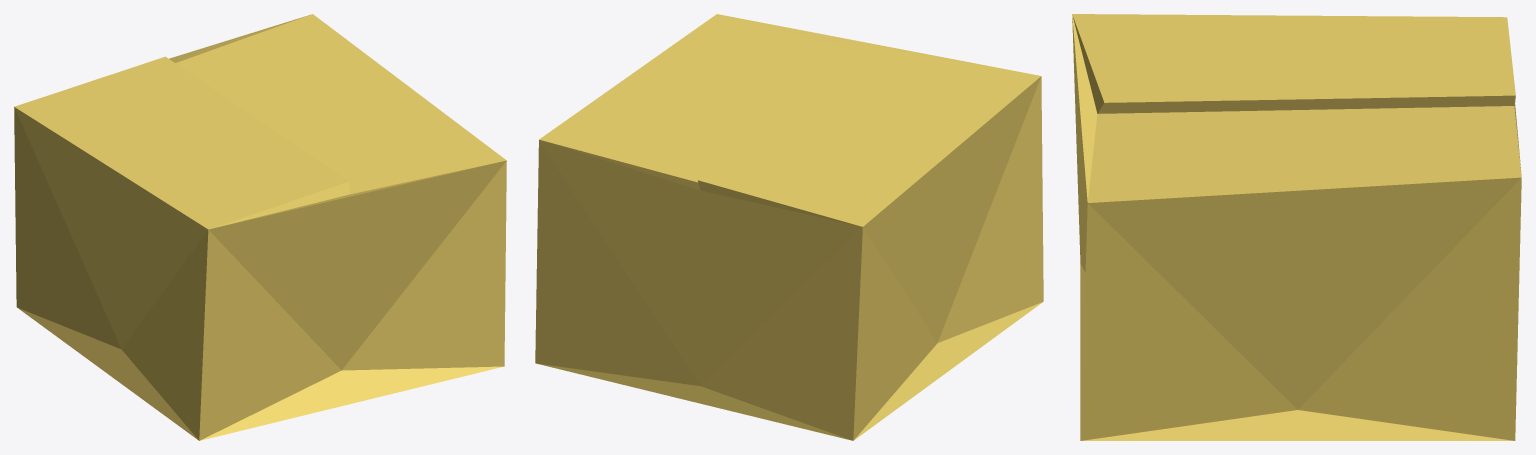
Rendered from Package.FBX.
The picture shows the model from 3 angles, left to right: view 1: azimuth 30°, elevation 25°; view 2: azimuth 150°, elevation 25°; view 3: azimuth 270°, elevation 25°; orthographic projection. The views are drawn at different scales.
Visible parts, largest first — view 1: Package; view 2: Package; view 3: Package.
Boxes of the visible parts, box(x1,y1,x2,y2) form: Package: box(14, 14, 506, 440); Package: box(535, 14, 1043, 440); Package: box(1072, 14, 1521, 440).
Size of the model in its own units: 52.21 by 34.43 by 54.
